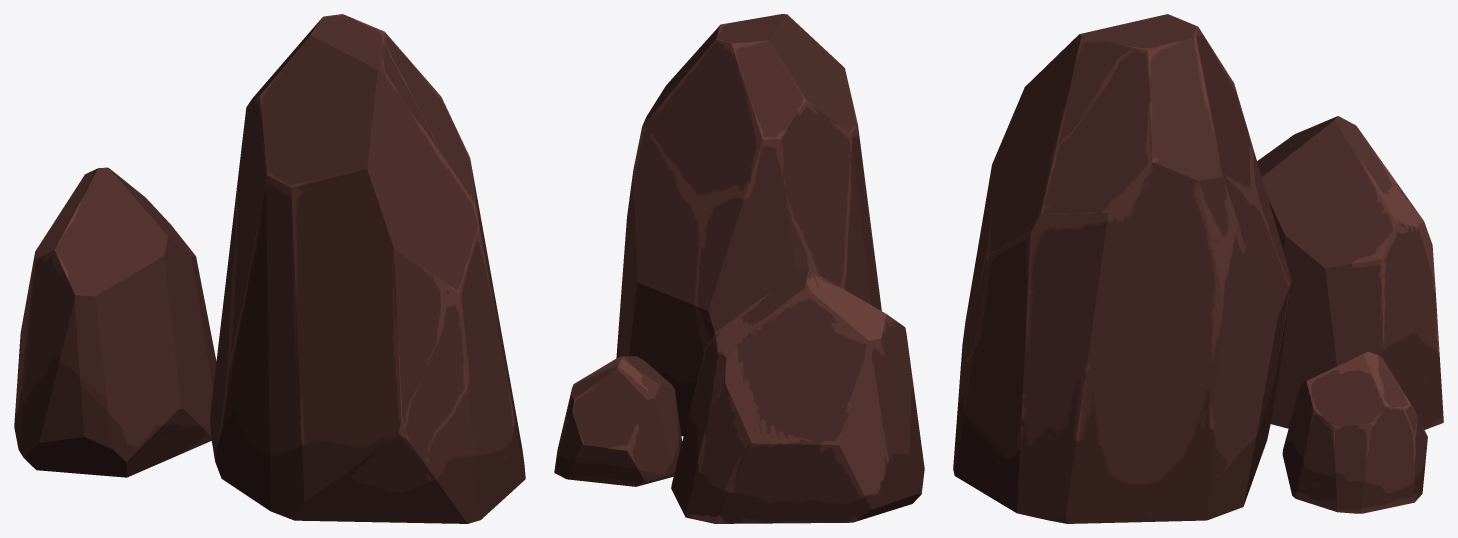
Rendered from unwrapped_rocks1.fbx.
3 renders of one model, left to right at view 1: azimuth 30°, elevation 25°; view 2: azimuth 150°, elevation 25°; view 3: azimuth 270°, elevation 25°, orthographic. The views are drawn at different scales.
Visible parts, largest first — view 1: Rocks1; view 2: Rocks1; view 3: Rocks1.
Boxes of the visible parts, x1,y1,x2,y2 form: Rocks1: (14, 14, 525, 523); Rocks1: (554, 14, 924, 523); Rocks1: (953, 14, 1443, 523).
Bounding box in the file's own units: 448 × 465 × 481.
